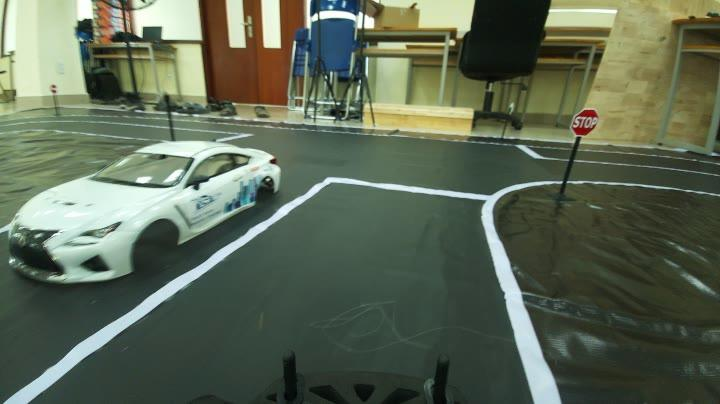stop: (14, 135, 279, 281), (569, 104, 602, 144)
